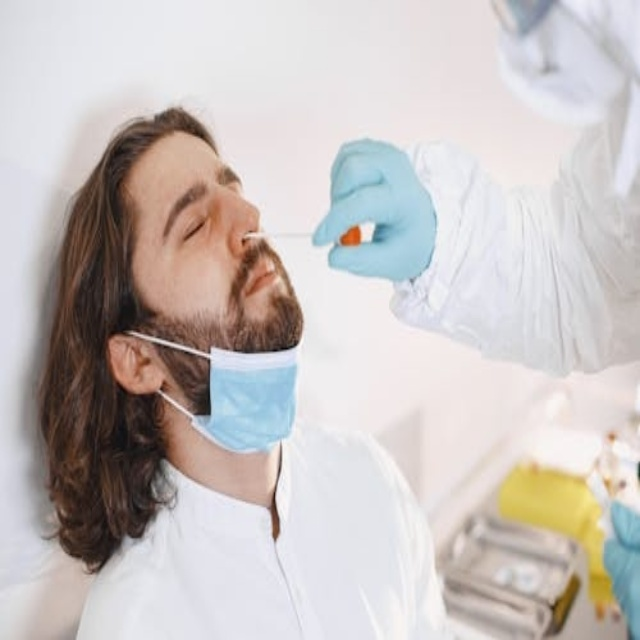Guantes: (308, 131, 438, 300)
Mascara: (488, 4, 628, 136)
Sin_gafas: (145, 161, 253, 259)
Sin_mascara: (219, 248, 298, 340)
